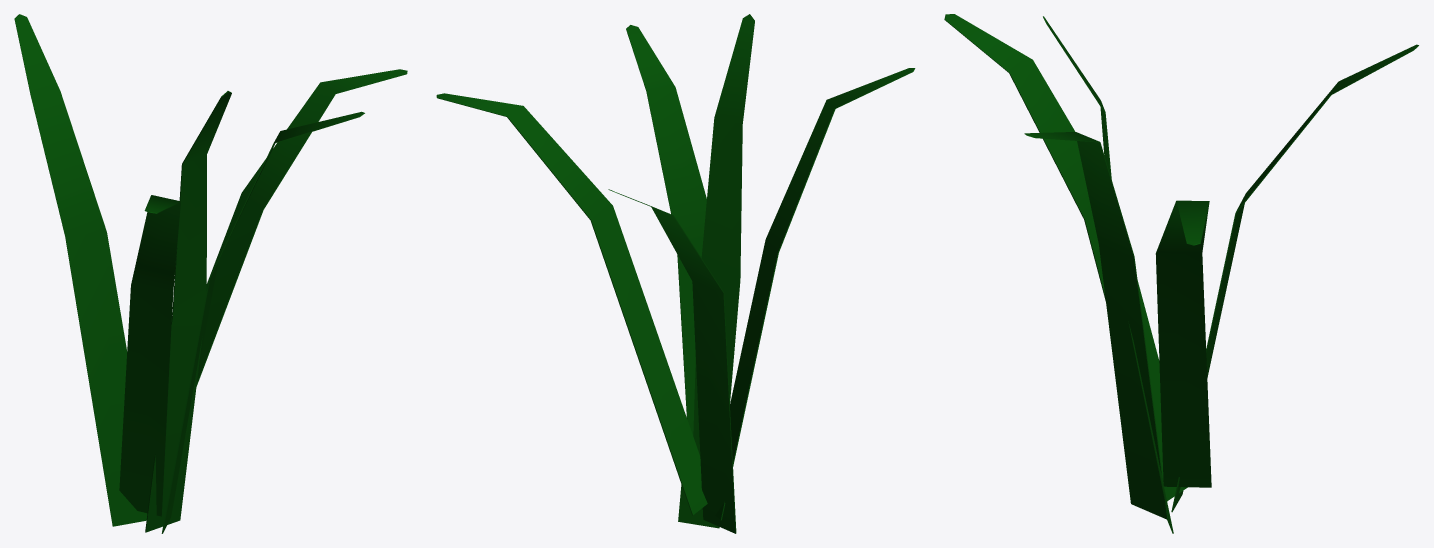
Rendered from Grass Blade Set 1.fbx.
3 renders of one model, left to right at view 1: azimuth 30°, elevation 25°; view 2: azimuth 150°, elevation 25°; view 3: azimuth 270°, elevation 25°, orthographic. The views are drawn at different scales.
Parts seen in each view (by area): view 1: Grass_Blades_Set_1; view 2: Grass_Blades_Set_1; view 3: Grass_Blades_Set_1.
Part boxes in pixels (x1,y1,x2,y2): Grass_Blades_Set_1: (14, 14, 407, 533); Grass_Blades_Set_1: (436, 14, 915, 533); Grass_Blades_Set_1: (944, 14, 1418, 533).
Bounding box in the file's own units: 0.2734 × 0.3325 × 0.28.
1 material, 1 textured.
